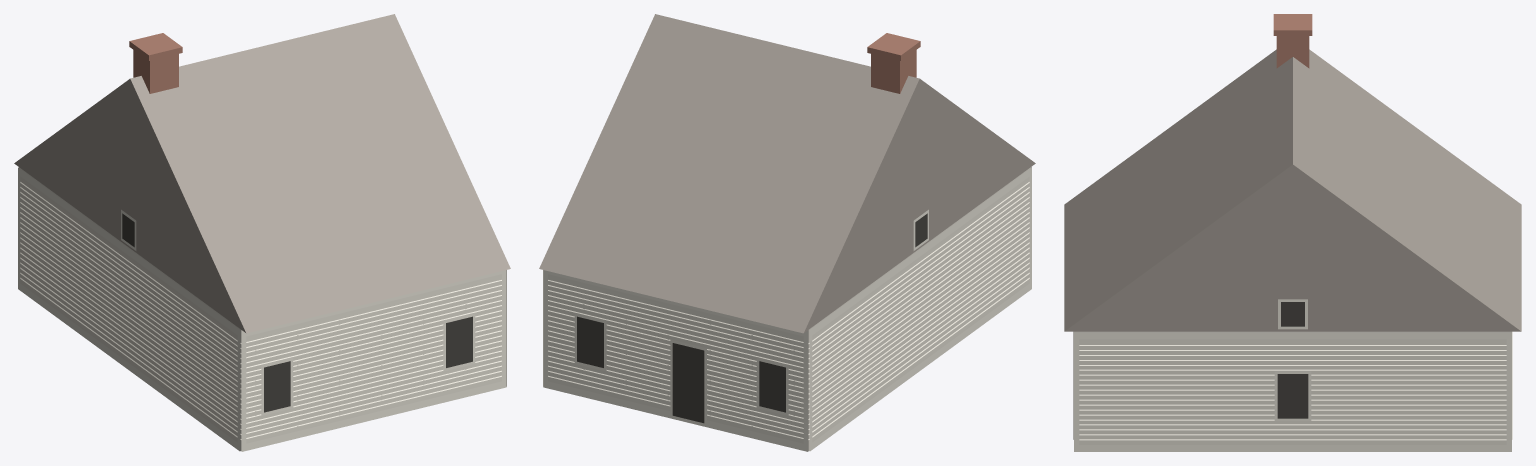
Rendered from recon_1835_blk_randolph_clark_h1_03__inferred_1835.glb.
The picture shows the model from 3 angles, left to right: view 1: azimuth 30°, elevation 25°; view 2: azimuth 150°, elevation 25°; view 3: azimuth 270°, elevation 25°; orthographic projection.
Parts seen in each view (by area): view 1: recon_1835_blk_randolph_clark_h1_03__inferred_1835; view 2: recon_1835_blk_randolph_clark_h1_03__inferred_1835; view 3: recon_1835_blk_randolph_clark_h1_03__inferred_1835.
Boxes of the visible parts, x1,y1,x2,y2 form: recon_1835_blk_randolph_clark_h1_03__inferred_1835: (14,14,510,451); recon_1835_blk_randolph_clark_h1_03__inferred_1835: (539,14,1035,451); recon_1835_blk_randolph_clark_h1_03__inferred_1835: (1064,14,1521,451).
Size of the model in its own units: 7.77 by 8.86 by 11.68.
